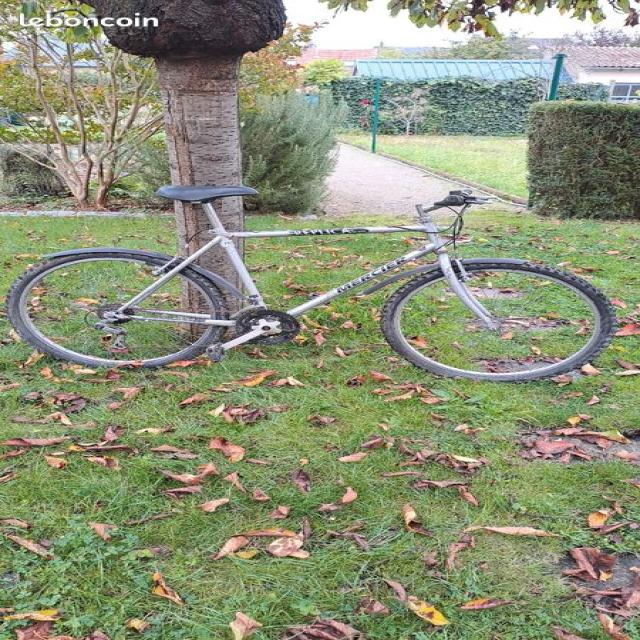Bike: (9, 185, 613, 378)
